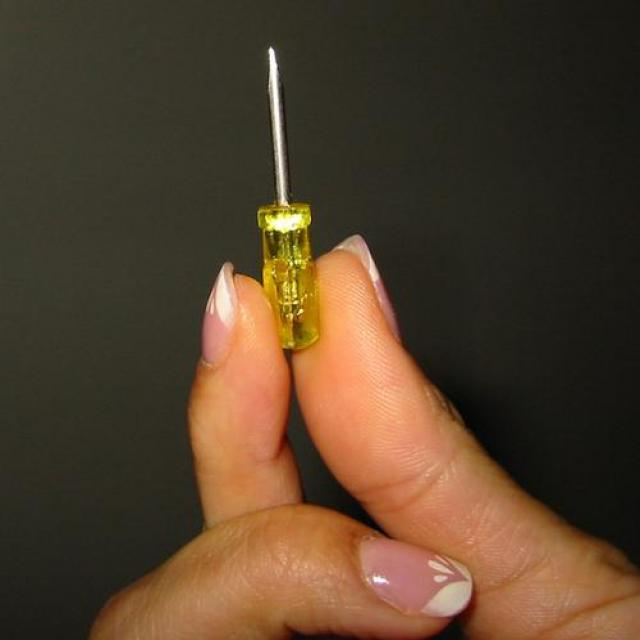screwdriver: (222, 19, 334, 360)
